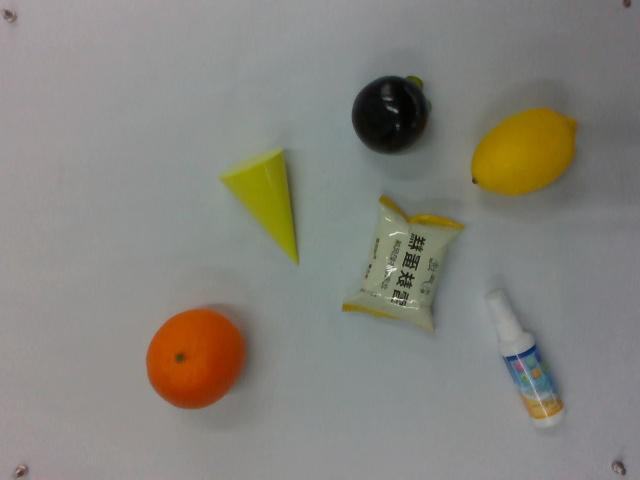cone: (220, 142, 301, 266)
dessert: (346, 193, 462, 337)
detergent: (483, 292, 565, 430)
lemon: (470, 105, 589, 199)
mangosteen: (347, 71, 433, 157)
orange: (142, 306, 249, 413)
